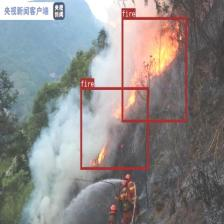fire: (121, 17, 187, 122), (80, 87, 148, 169)
